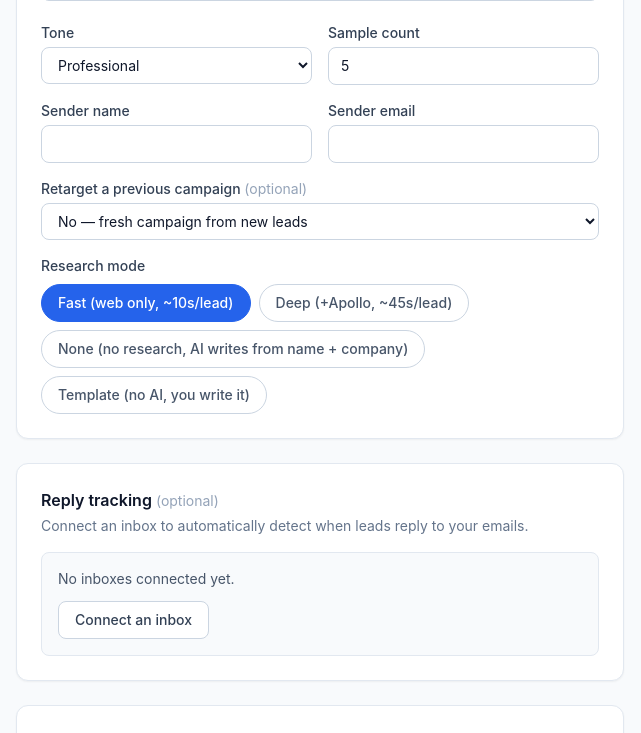
Test: Step 1 — campaign details › selects "None" research mode and shows the no-research hint
(page scrolled)
Click the radio button labelled "None (no research, AI writes from name + company)". click: point(233, 349)
box: [41, 330, 425, 368]
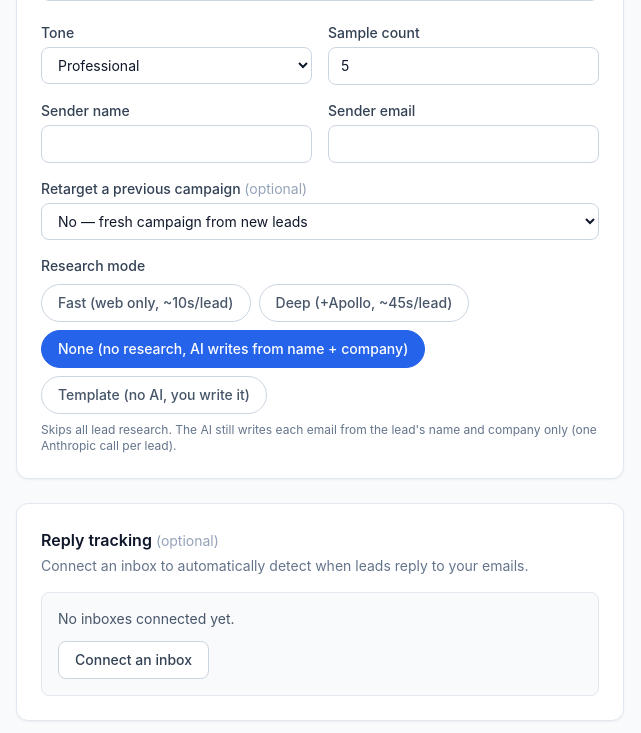
Check: the text "Skips all lead research" is shown, box [41, 422, 597, 453]
